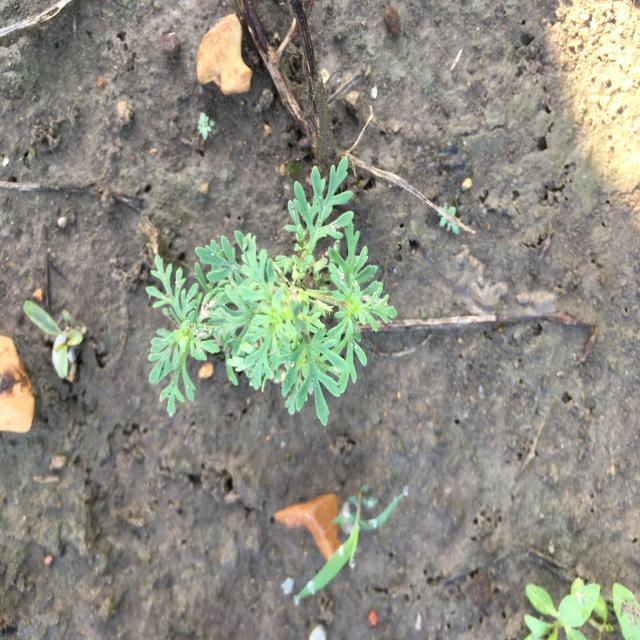Ragweed: (144, 153, 400, 429)
